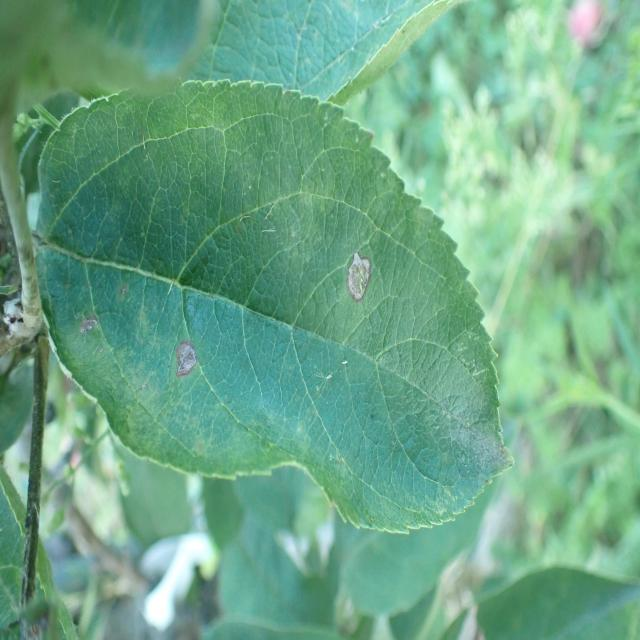frog-eye-leaf-spot: (34, 78, 516, 536)
